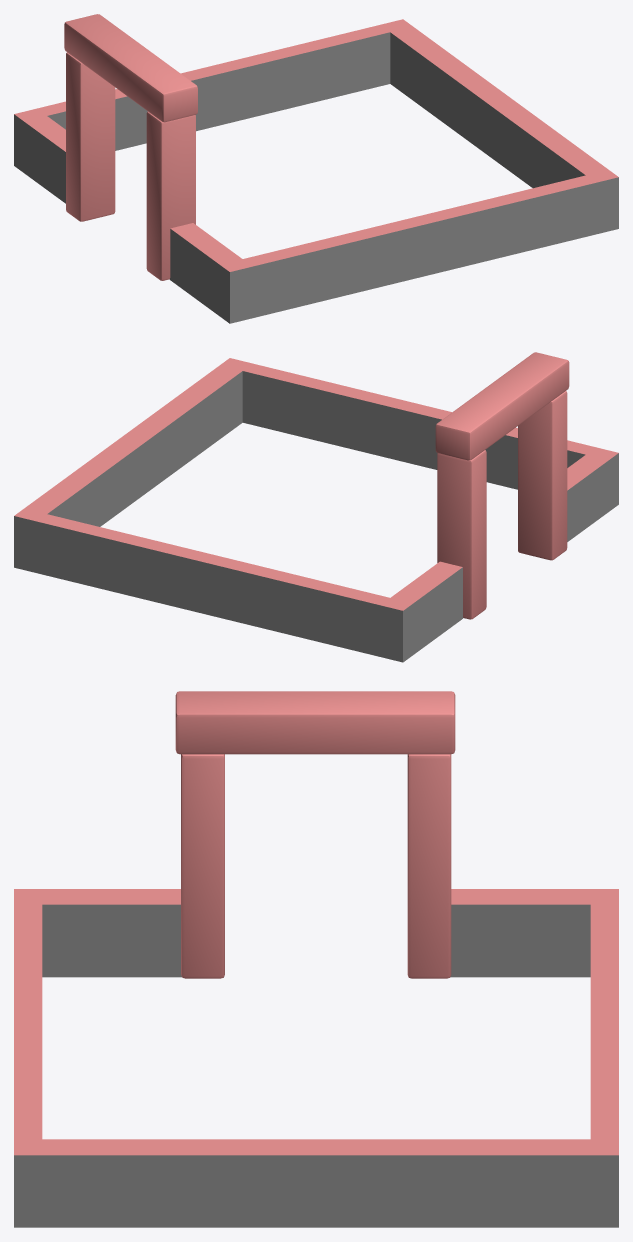
Rendered from HarborHouse02_Foundation.fbx.
3 renders of one model, top to bottom at view 1: azimuth 30°, elevation 25°; view 2: azimuth 150°, elevation 25°; view 3: azimuth 270°, elevation 25°, orthographic. The views are drawn at different scales.
Visible parts, largest first — view 1: SM_HarborHouse01_HarborHouse02_Foundation; view 2: SM_HarborHouse01_HarborHouse02_Foundation; view 3: SM_HarborHouse01_HarborHouse02_Foundation.
Part boxes in pixels (bbox=[...]): SM_HarborHouse01_HarborHouse02_Foundation: bbox=[14, 14, 618, 323]; SM_HarborHouse01_HarborHouse02_Foundation: bbox=[14, 352, 618, 662]; SM_HarborHouse01_HarborHouse02_Foundation: bbox=[14, 691, 618, 1227].
Size of the model in its own units: 413 by 188 by 388.
